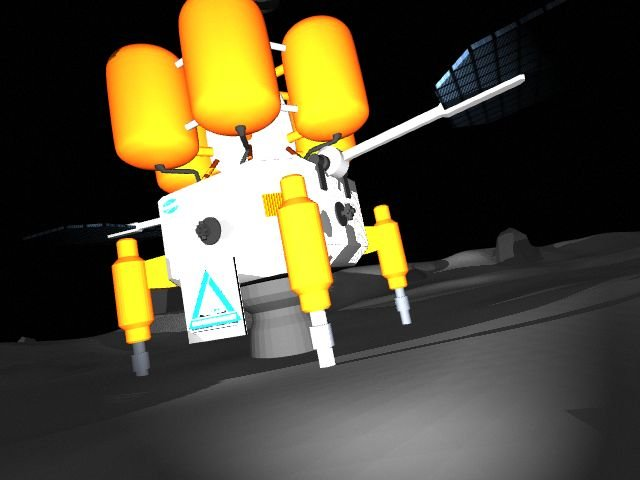basemarker: (189, 267, 240, 334)
